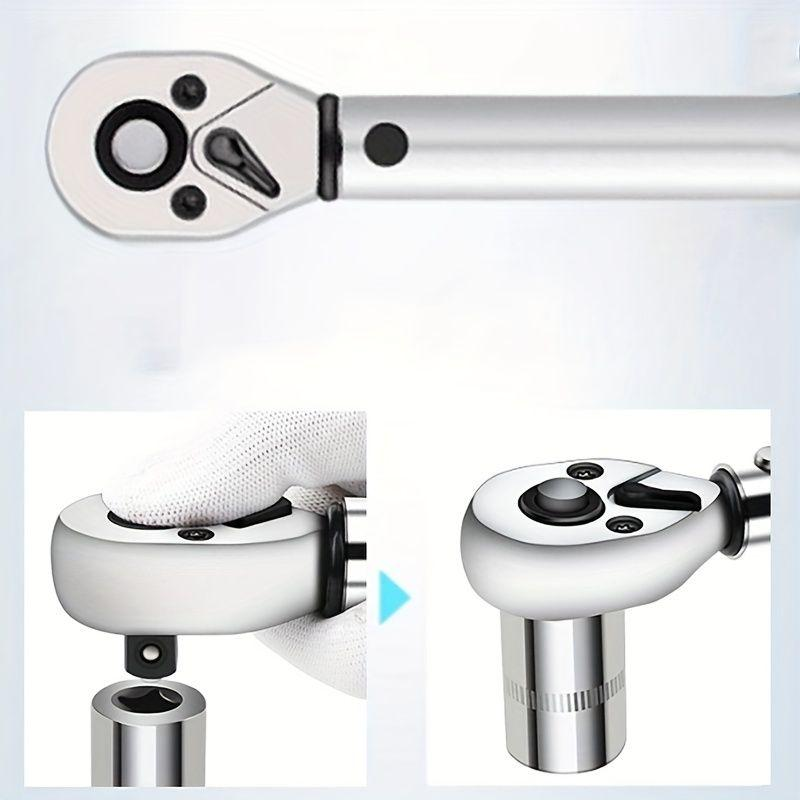Tool: (46, 53, 325, 244), (456, 449, 739, 610)
